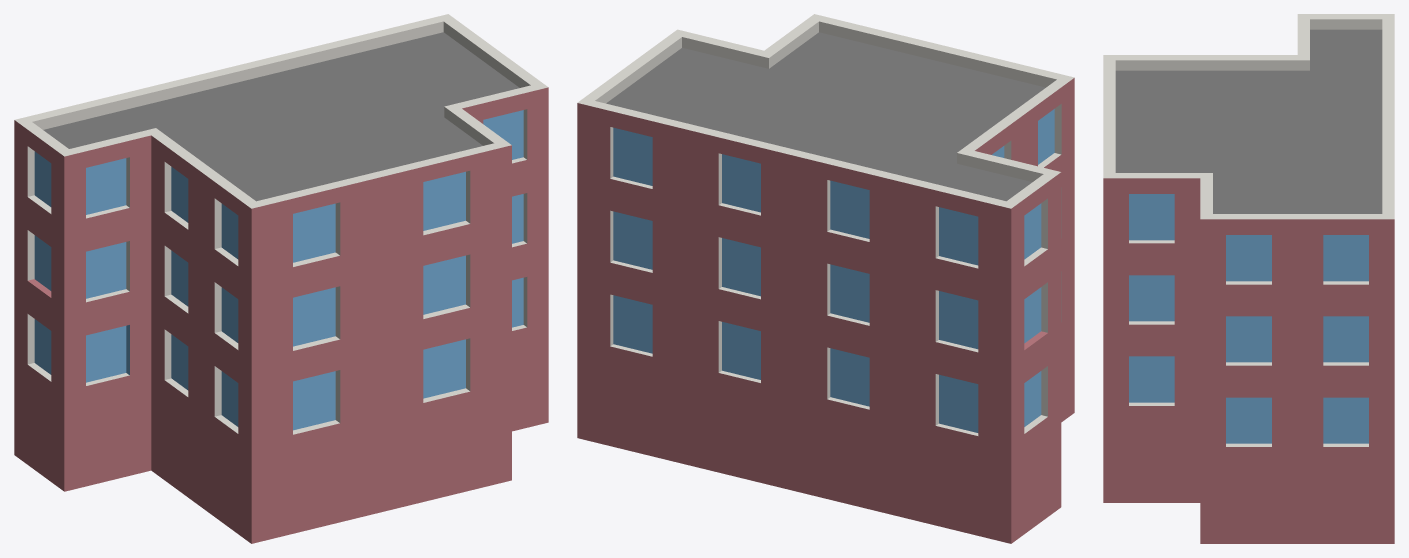
The model's file is Buidling3.fbx.
3 renders of one model, left to right at view 1: azimuth 30°, elevation 25°; view 2: azimuth 150°, elevation 25°; view 3: azimuth 270°, elevation 25°, orthographic. The views are drawn at different scales.
Parts seen in each view (by area): view 1: City; view 2: City; view 3: City.
Part boxes in pixels (x1,y1,x2,y2): City: (14,14,548,543); City: (577,14,1074,543); City: (1103,14,1394,543).
Bounding box in the file's own units: 2220 × 1638 × 1332.
